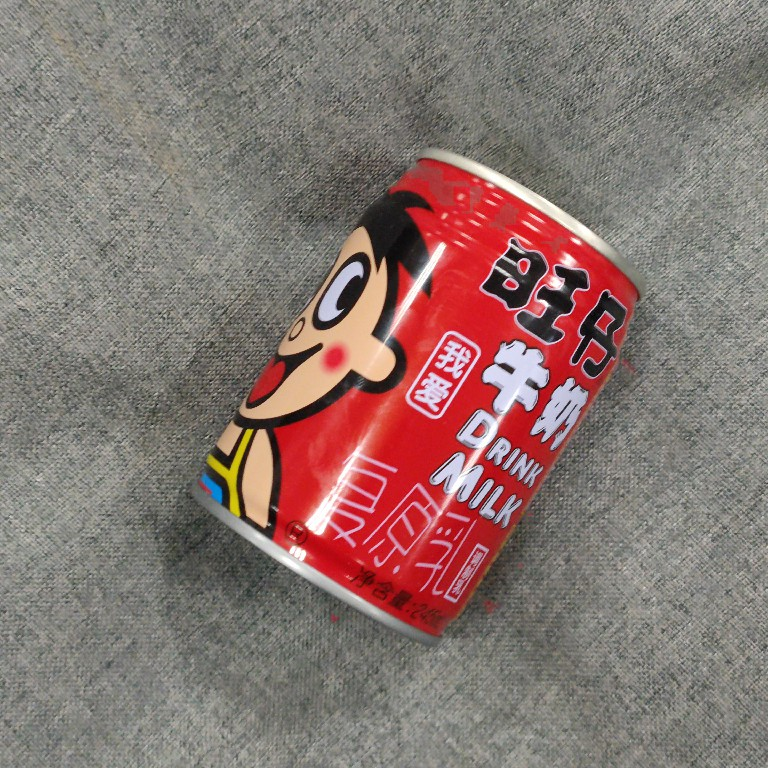can: (185, 139, 643, 647)
